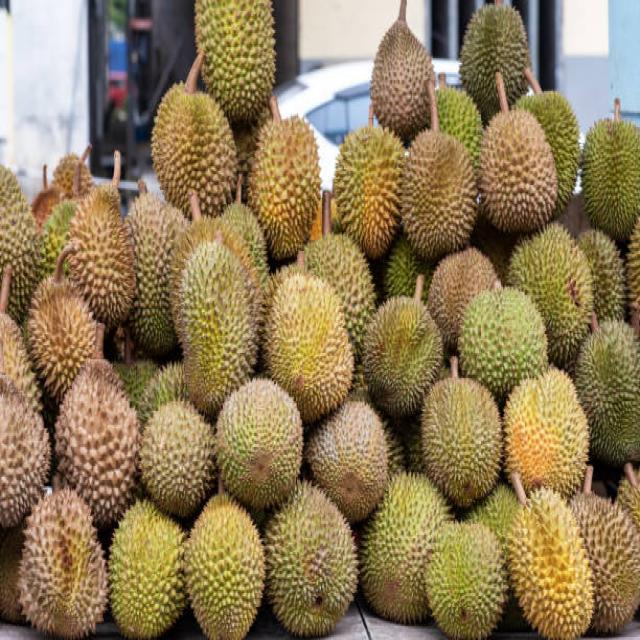mature: (55, 360, 140, 526), (19, 489, 108, 638), (509, 489, 594, 638), (151, 82, 238, 217), (504, 368, 589, 497), (248, 116, 320, 260), (401, 129, 478, 260), (479, 105, 558, 232), (306, 401, 388, 523), (570, 493, 640, 633), (68, 184, 136, 327), (370, 0, 434, 141), (28, 278, 96, 398), (0, 373, 51, 526), (429, 248, 496, 352)
